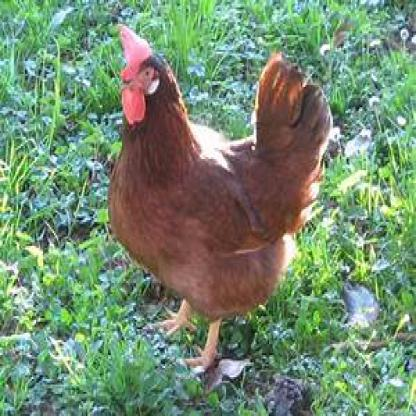chicken: (110, 20, 337, 374)
